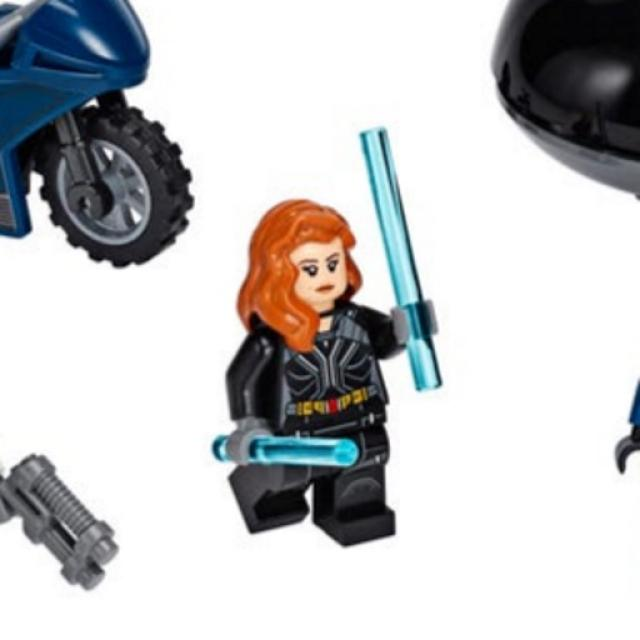Lego-Minifigures: (204, 152, 461, 546)
